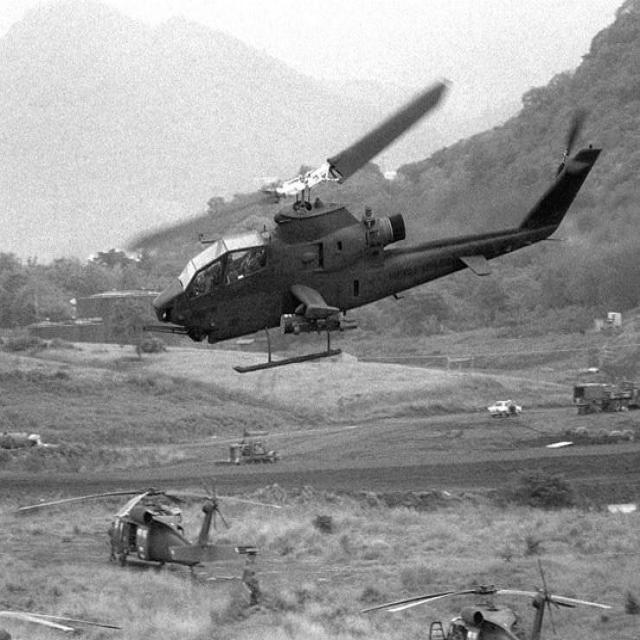MIL_HELO: (37, 64, 604, 378), (17, 472, 296, 572)
